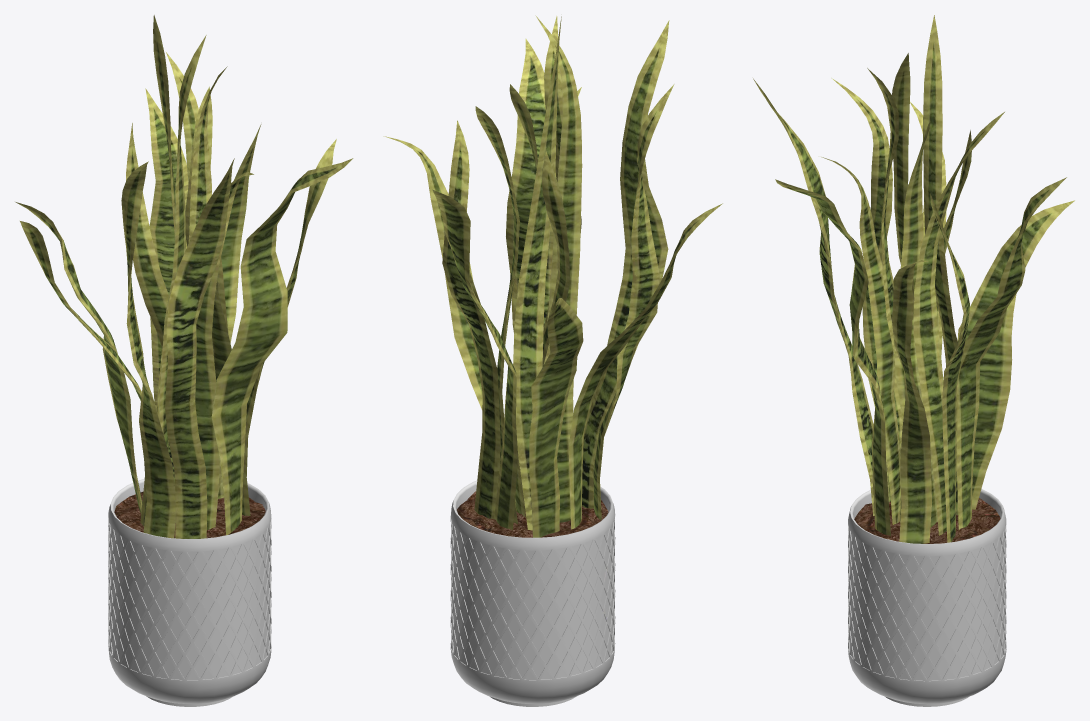
File: snakeplant.glb
The picture shows the model from 3 angles, left to right: view 1: azimuth 30°, elevation 25°; view 2: azimuth 150°, elevation 25°; view 3: azimuth 270°, elevation 25°; orthographic projection. The views are drawn at different scales.
Parts seen in each view (by area): view 1: Snake plant in a pot; view 2: Snake plant in a pot; view 3: Snake plant in a pot.
Part boxes in pixels (x1=…): Snake plant in a pot: x1=15, y1=15, x2=353, y2=706; Snake plant in a pot: x1=383, y1=15, x2=722, y2=706; Snake plant in a pot: x1=753, y1=15, x2=1074, y2=706.
Bounding box in the file's own units: 0.6482 × 1.28 × 0.57.
1 material, 1 textured.
